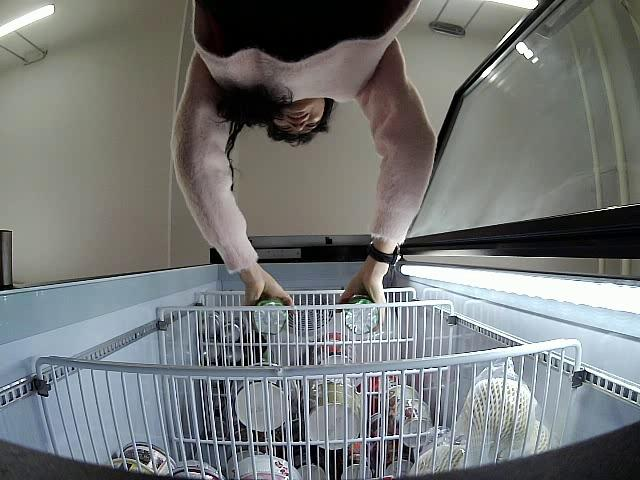00_hand: (245, 281, 298, 340), (337, 275, 390, 334)
18_trevi: (341, 290, 383, 337), (253, 299, 288, 334)
